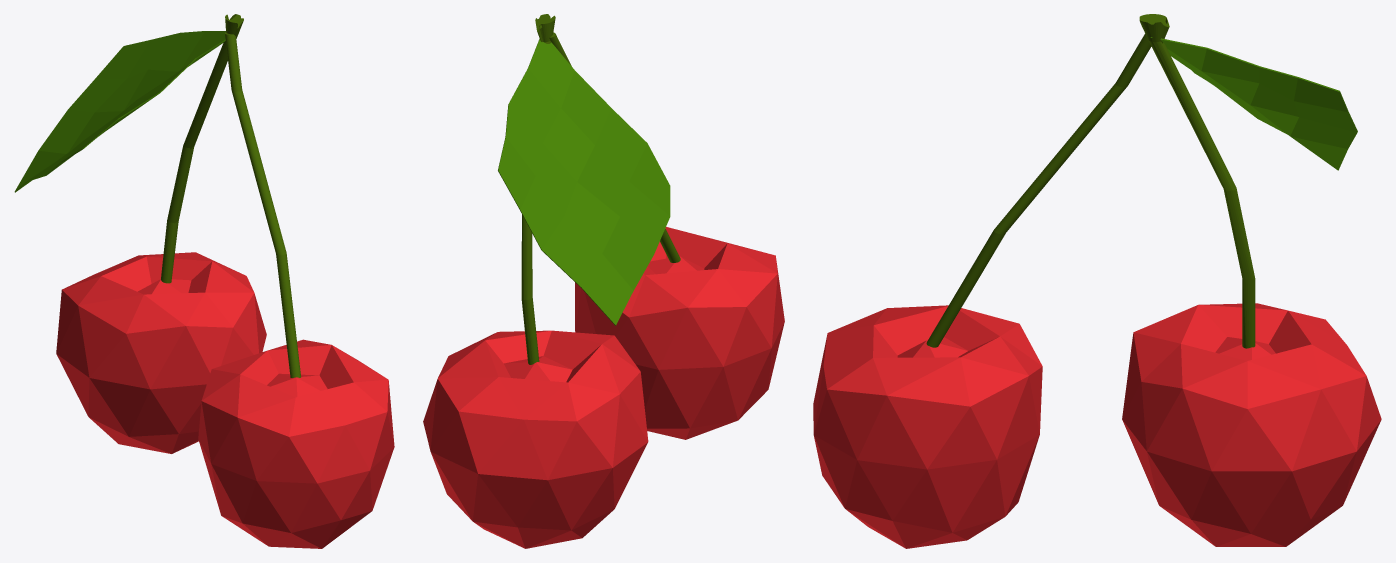
The model's file is cherry.fbx.
3 renders of one model, left to right at view 1: azimuth 30°, elevation 25°; view 2: azimuth 150°, elevation 25°; view 3: azimuth 270°, elevation 25°, orthographic. The views are drawn at different scales.
Visible parts, largest first — view 1: cherry1, cherry2, leaf, stem1, stem2; view 2: cherry2, leaf, cherry1, stem2, stem1; view 3: cherry2, cherry1, leaf, stem2, stem1.
Part boxes in pixels (x1=…): cherry1: x1=198, y1=339, x2=394, y2=548; cherry2: x1=56, y1=252, x2=266, y2=453; leaf: x1=14, y1=31, x2=225, y2=192; stem1: x1=225, y1=32, x2=300, y2=377; stem2: x1=161, y1=14, x2=243, y2=283; cherry2: x1=423, y1=330, x2=648, y2=548; leaf: x1=498, y1=38, x2=670, y2=325; cherry1: x1=575, y1=227, x2=784, y2=439; stem2: x1=521, y1=14, x2=555, y2=364; stem1: x1=549, y1=32, x2=680, y2=262; cherry2: x1=1122, y1=303, x2=1381, y2=546; cherry1: x1=813, y1=305, x2=1042, y2=548; leaf: x1=1150, y1=37, x2=1357, y2=170; stem2: x1=1139, y1=14, x2=1255, y2=348; stem1: x1=926, y1=34, x2=1151, y2=347.
Bounding box in the file's own units: 216 × 461 × 438.
